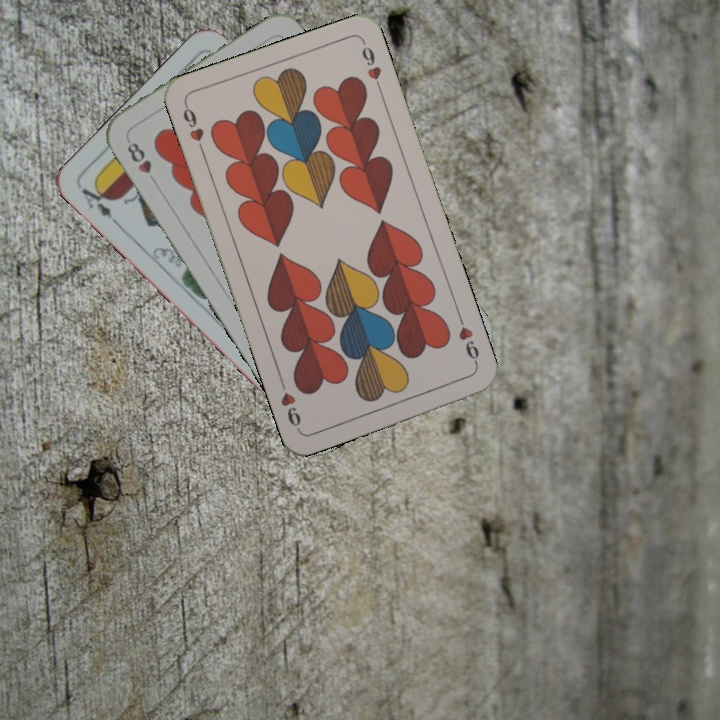EA: (77, 178, 123, 229)
H8: (123, 138, 161, 188)
H9: (179, 100, 208, 157), (454, 312, 482, 369)
